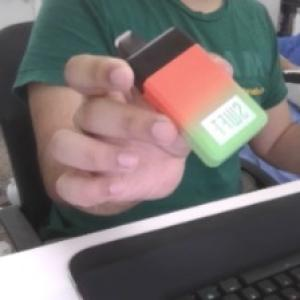Swift-E-Ciggirate: (106, 24, 271, 170)
